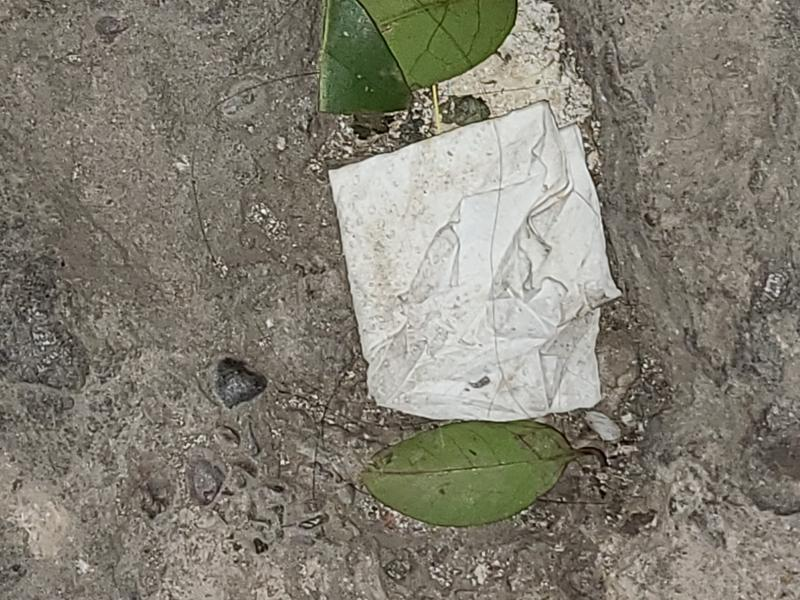papel: (328, 103, 621, 428)
